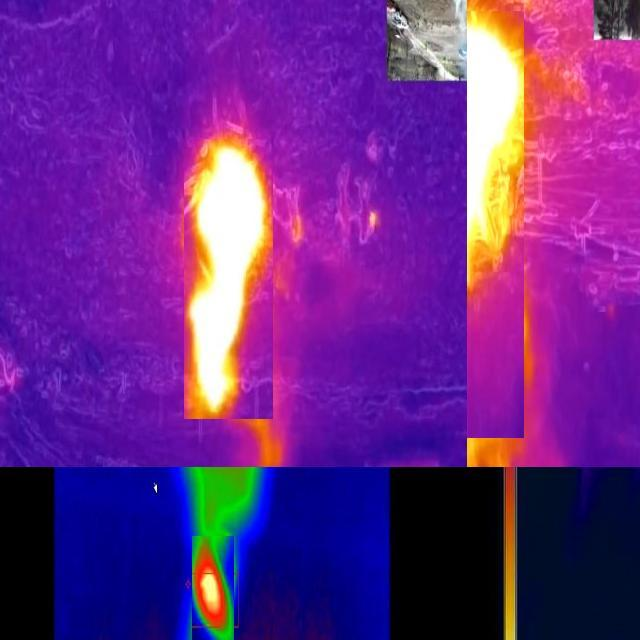fire: (185, 140, 274, 420), (468, 12, 525, 439), (193, 537, 235, 640)
